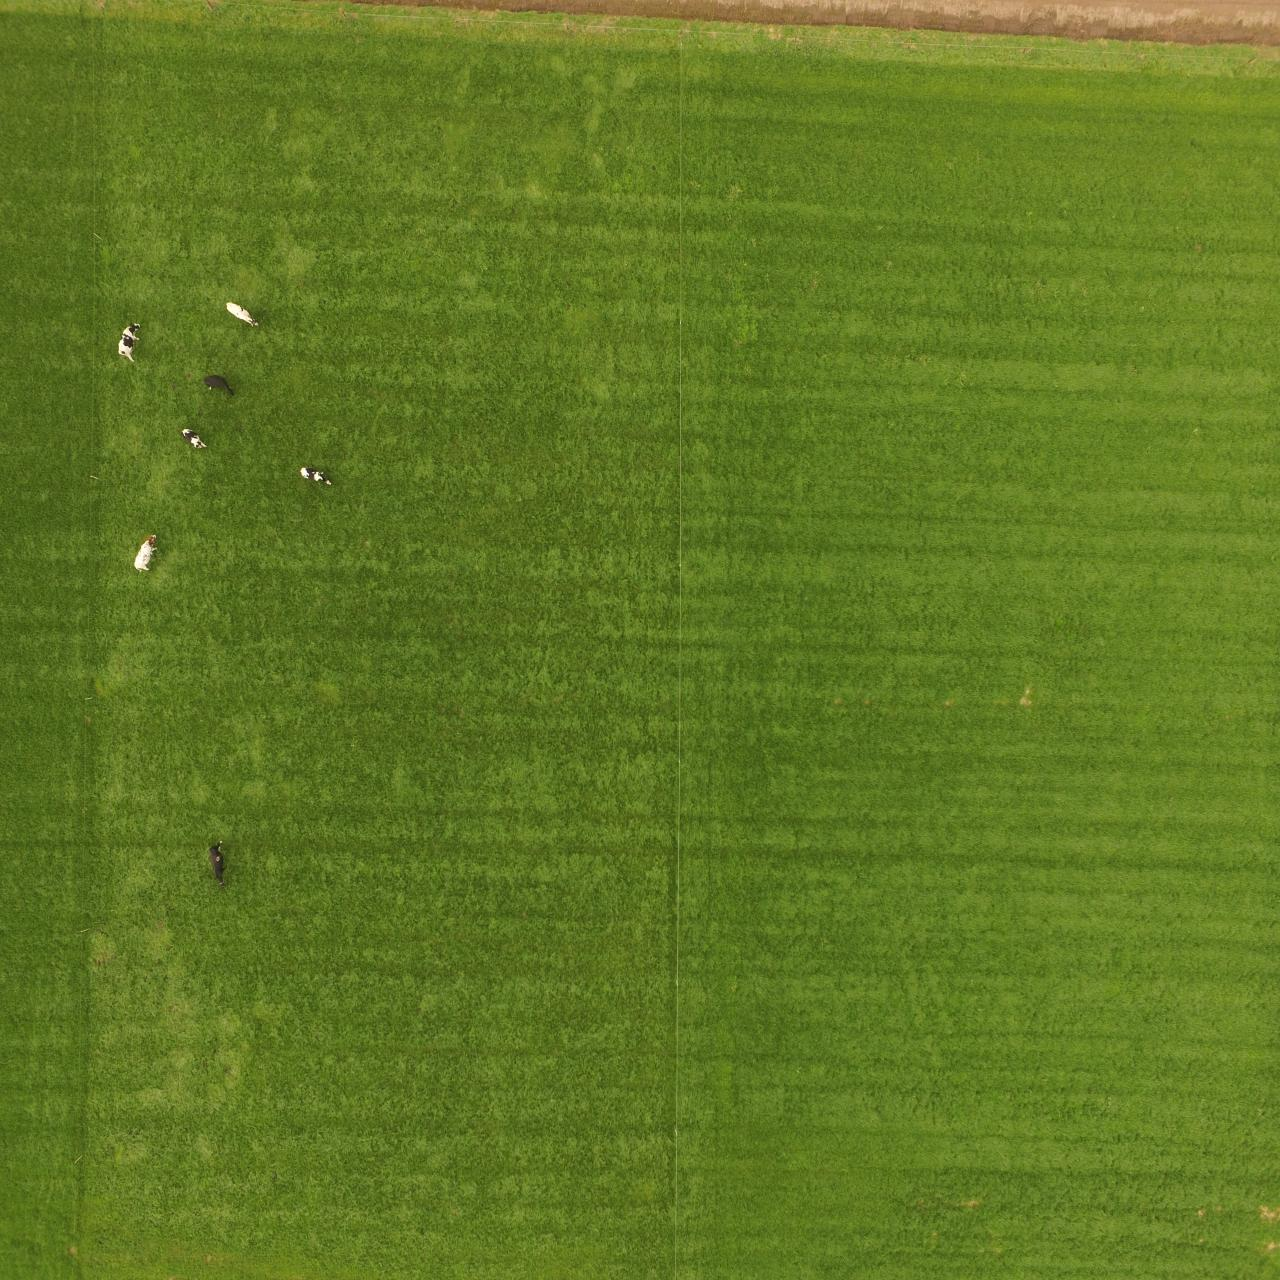cow: (107, 320, 145, 374), (224, 298, 267, 335), (134, 531, 162, 578), (209, 835, 227, 888), (298, 464, 336, 490), (203, 375, 236, 402), (181, 428, 207, 449)
